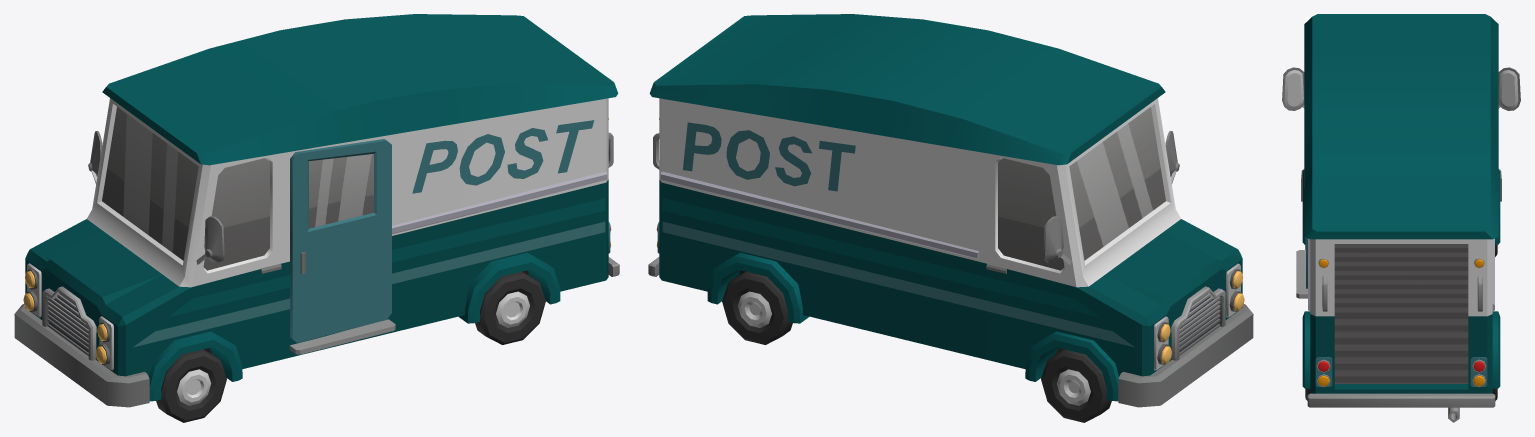
Rendered from PostCar_2_D.gltf.
The picture shows the model from 3 angles, left to right: view 1: azimuth 30°, elevation 25°; view 2: azimuth 150°, elevation 25°; view 3: azimuth 270°, elevation 25°; orthographic projection. The views are drawn at different scales.
Parts seen in each view (by area): view 1: PostCar_2_D, FL, RL; view 2: PostCar_2_D, FR, RR; view 3: PostCar_2_D.
Part boxes in pixels (box(x1,y1,x2,y2)): PostCar_2_D: box(14, 14, 619, 407); FL: box(156, 349, 226, 422); RL: box(475, 271, 545, 344); PostCar_2_D: box(648, 14, 1253, 407); FR: box(1041, 349, 1111, 422); RR: box(722, 271, 792, 344); PostCar_2_D: box(1282, 14, 1520, 422).
Size of the model in its own units: 4.14 by 2.11 by 1.8.
Materials: 5 (5 with a texture image).
